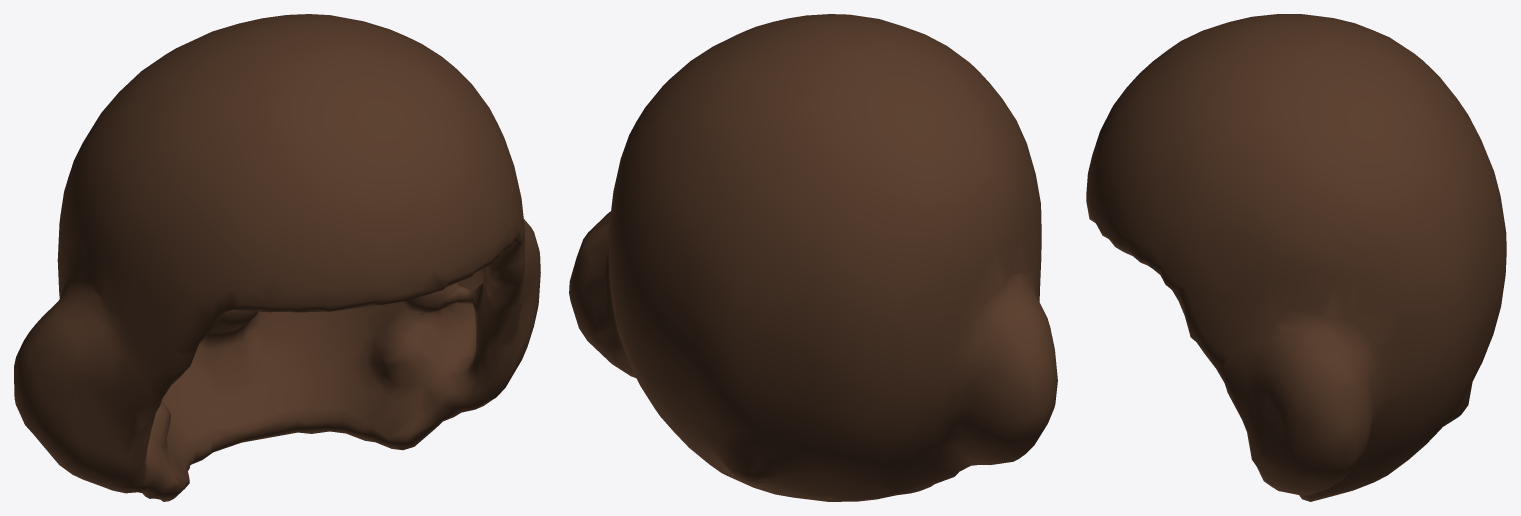
Rendered from hair_long_waves.glb.
The picture shows the model from 3 angles, left to right: view 1: azimuth 30°, elevation 25°; view 2: azimuth 150°, elevation 25°; view 3: azimuth 270°, elevation 25°; orthographic projection. The views are drawn at different scales.
Visible parts, largest first — view 1: HairLongWaves.001; view 2: HairLongWaves.001; view 3: HairLongWaves.001.
Part boxes in pixels (x1,y1,x2,y2): HairLongWaves.001: [14, 14, 540, 501]; HairLongWaves.001: [569, 14, 1057, 501]; HairLongWaves.001: [1086, 14, 1506, 501].
Bounding box in the file's own units: 0.3869 × 0.3244 × 0.2996.
